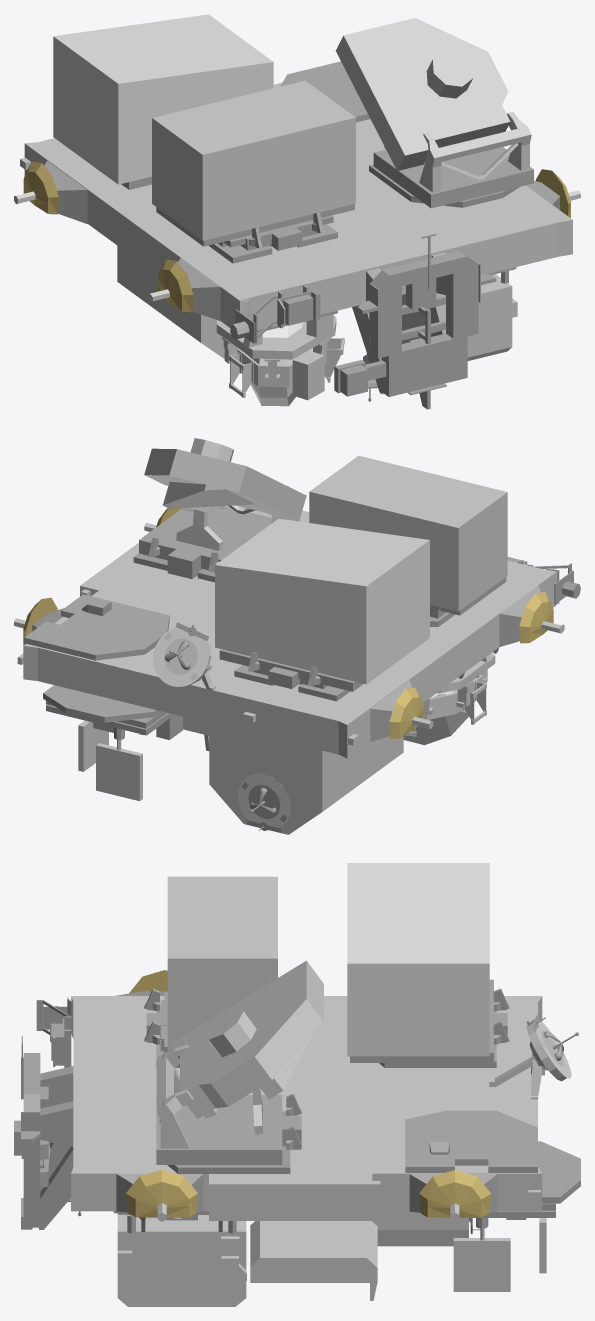
Rendered from ELC2.glb.
3 views of the same model, one above another, from view 1: azimuth 30°, elevation 25°; view 2: azimuth 150°, elevation 25°; view 3: azimuth 270°, elevation 25° (orthographic). The views are drawn at different scales.
Parts seen in each view (by area): view 1: ELC2, Gas5 for Airlock; view 2: ELC2, Gas5 for Airlock; view 3: ELC2, Gas5 for Airlock.
Part boxes in pixels (x1=…): ELC2: x1=14, y1=14, x2=580, y2=409; Gas5 for Airlock: x1=117, y1=246, x2=224, y2=358; ELC2: x1=14, y1=438, x2=580, y2=801; Gas5 for Airlock: x1=209, y1=723, x2=403, y2=834; ELC2: x1=14, y1=863, x2=580, y2=1306; Gas5 for Airlock: x1=372, y1=1211, x2=480, y2=1246.
Bounding box in the file's own units: 209 × 138 × 219.
